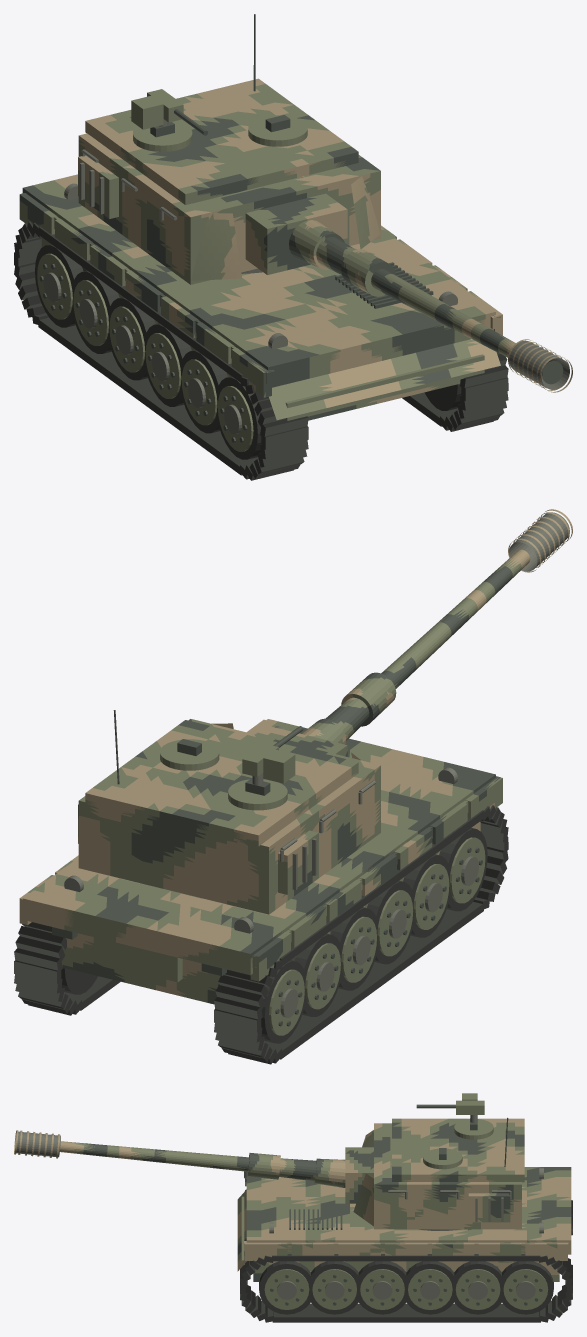
The picture shows the model from 3 angles, top to bottom: view 1: azimuth 30°, elevation 25°; view 2: azimuth 150°, elevation 25°; view 3: azimuth 270°, elevation 25°; orthographic projection. The views are drawn at different scales.
Parts seen in each view (by area): view 1: Camouflaged_Self_Propelled_Howitzer; view 2: Camouflaged_Self_Propelled_Howitzer; view 3: Camouflaged_Self_Propelled_Howitzer.
Boxes of the visible parts, <box> form: Camouflaged_Self_Propelled_Howitzer: <box>14,14,572,480</box>; Camouflaged_Self_Propelled_Howitzer: <box>14,509,572,1064</box>; Camouflaged_Self_Propelled_Howitzer: <box>14,1093,572,1322</box>.
Bounding box in the file's own units: 3.57 × 4 × 10.76.
